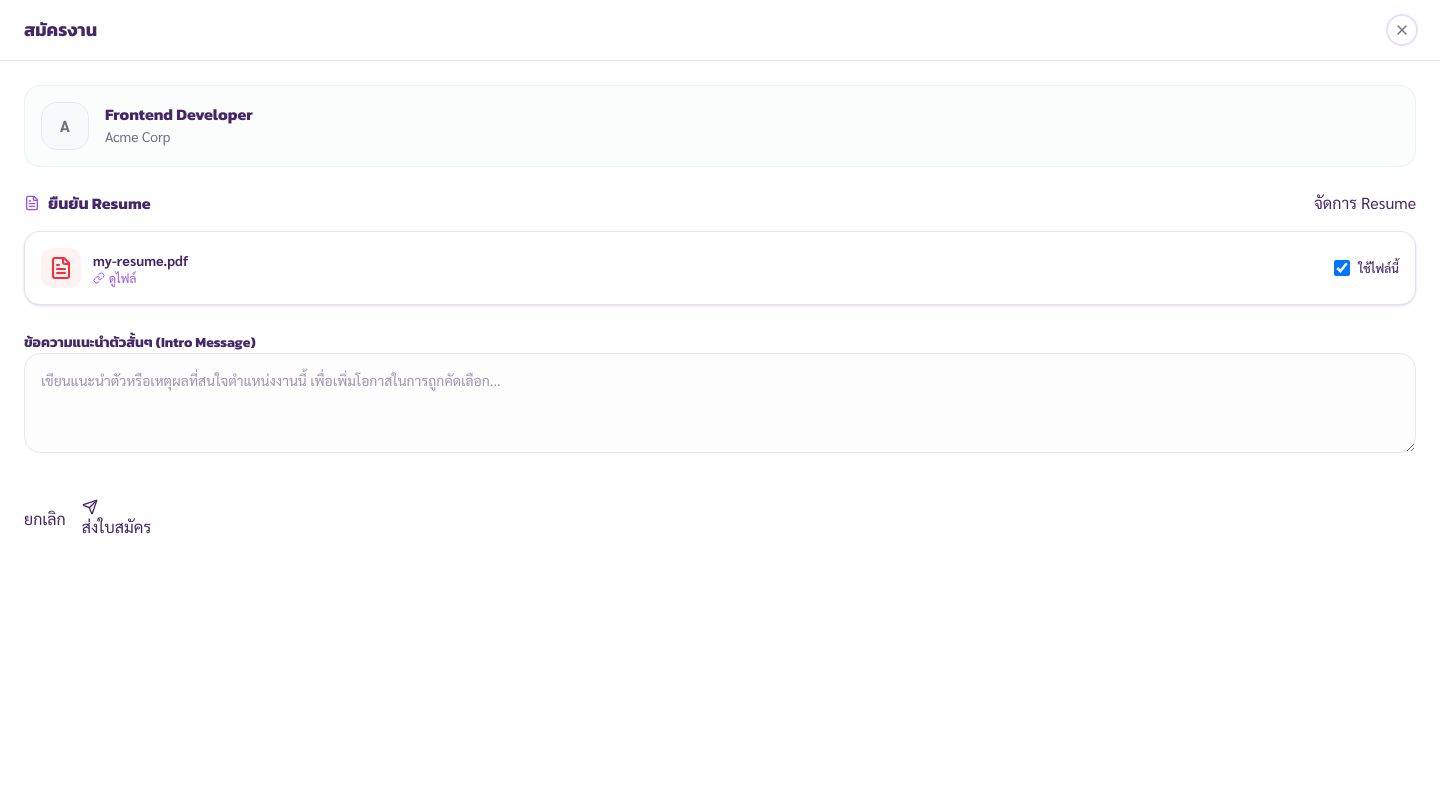
ApplyModal › shows an error message when the action returns an error
In the text box with placeholder "เขียนแนะนำตัว": (720, 403) [24, 353, 1416, 453], type "Some intro message that is long enough to pass validation."
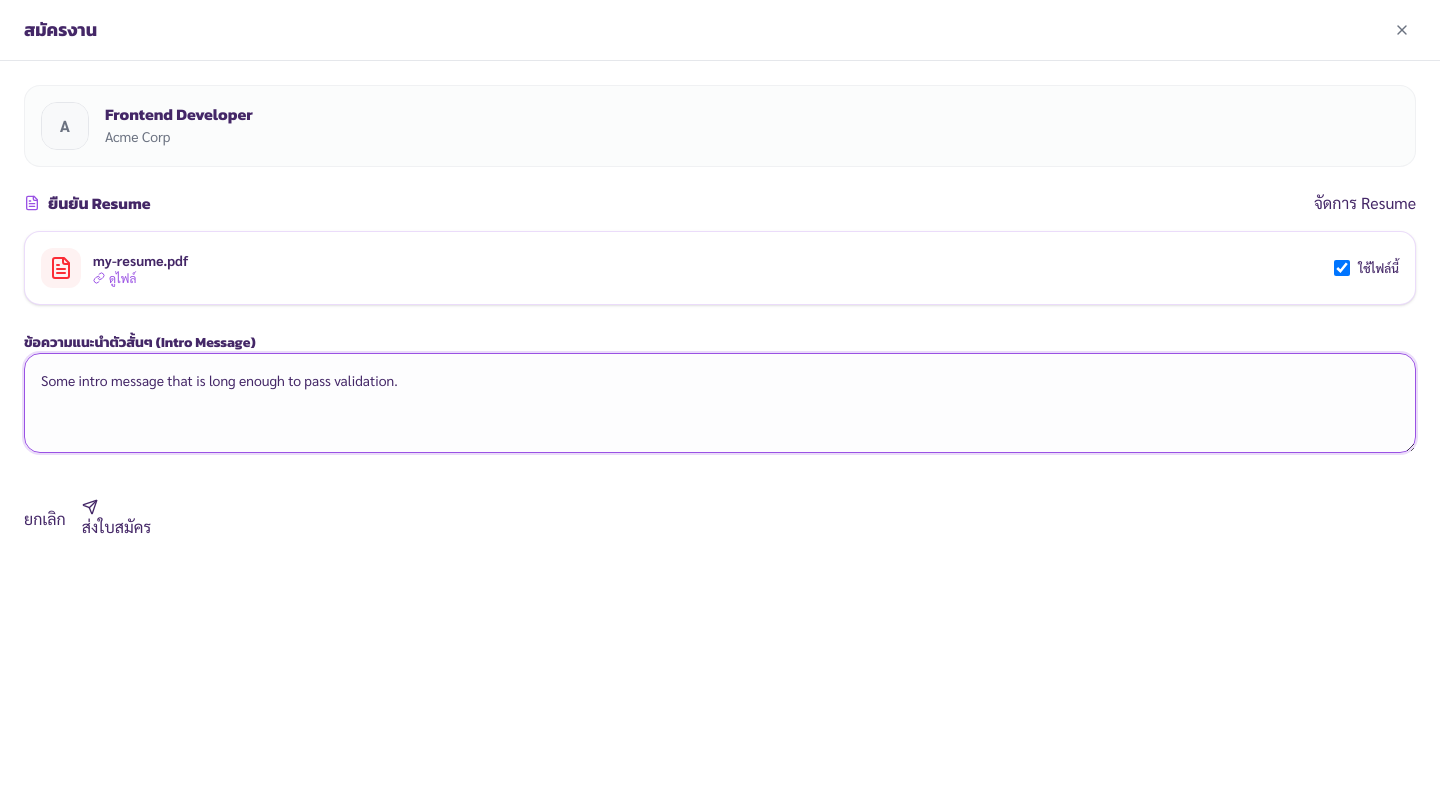
Click the button "ส่งใบสมัคร": (116, 519) [82, 499, 151, 539]
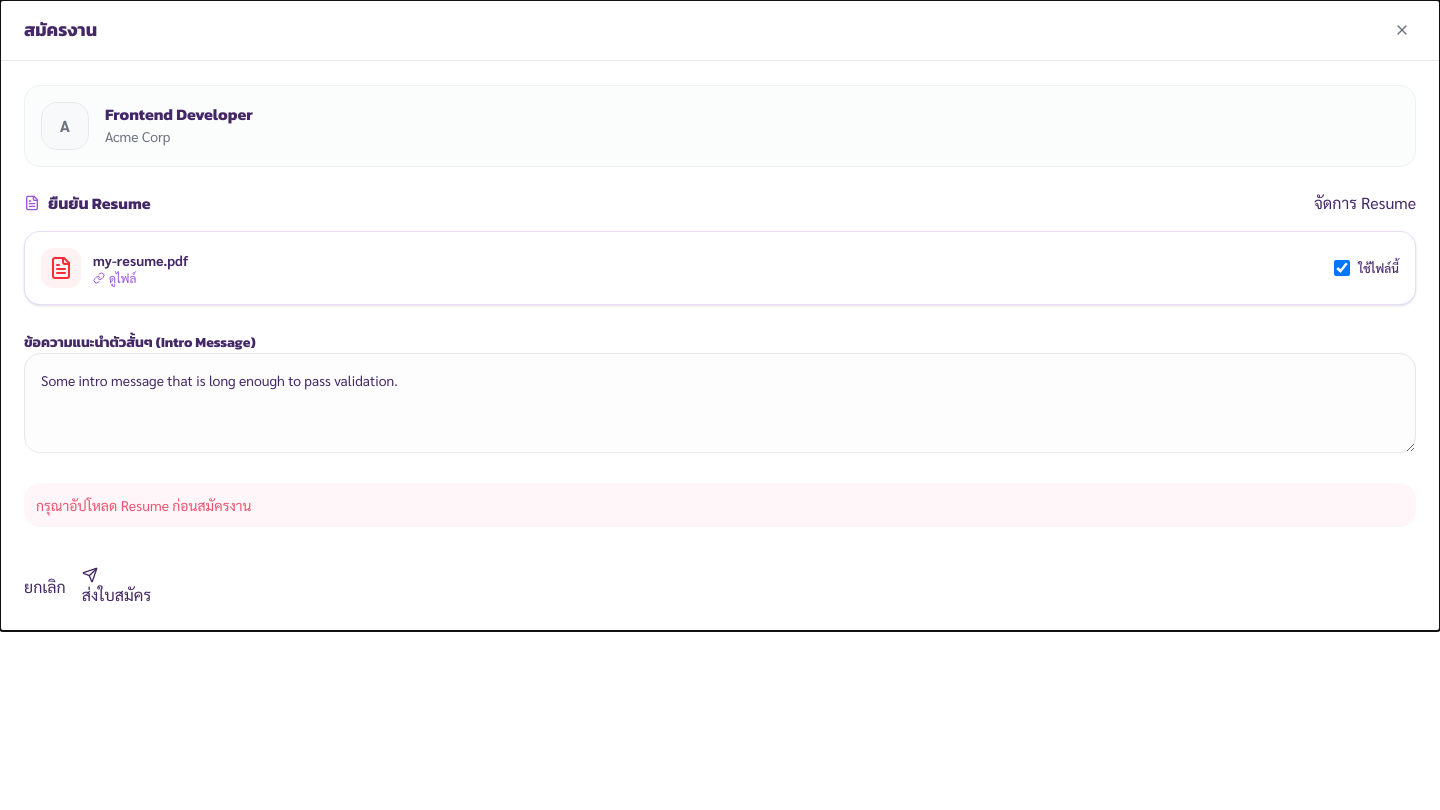
Expected: the text "กรุณาอัปโหลด Resume ก่อนสมัครงาน" is shown, [24, 483, 1416, 527]
